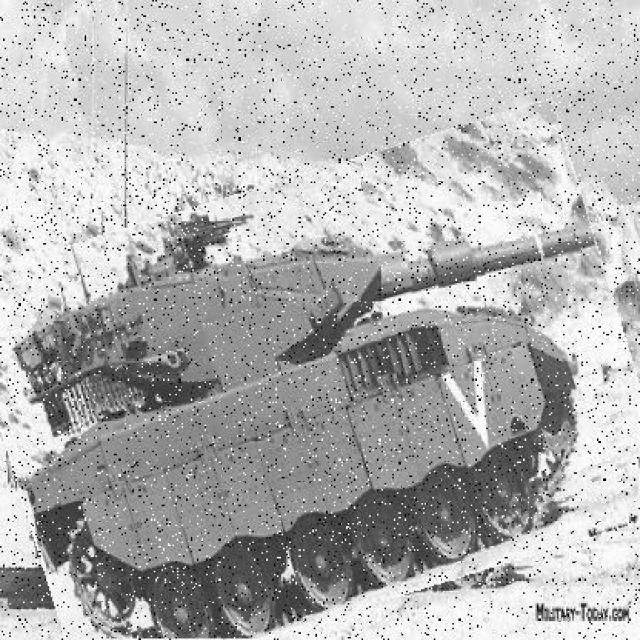Tank: (1, 139, 639, 639)
